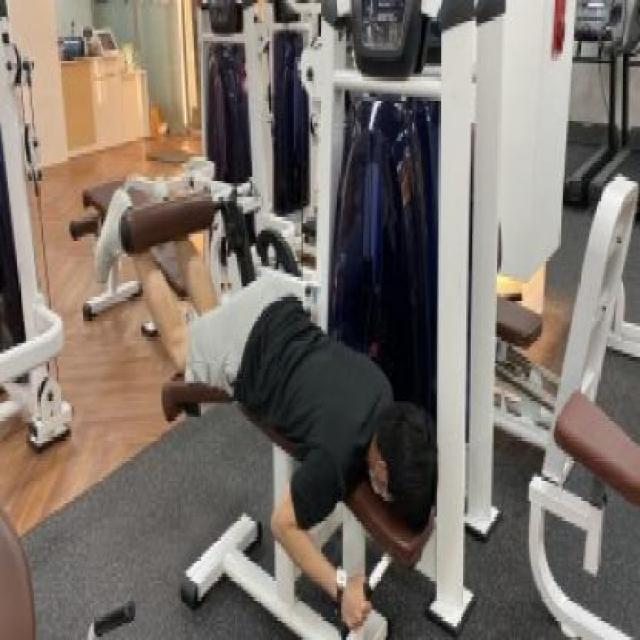reg curl machine: (88, 0, 475, 640)
